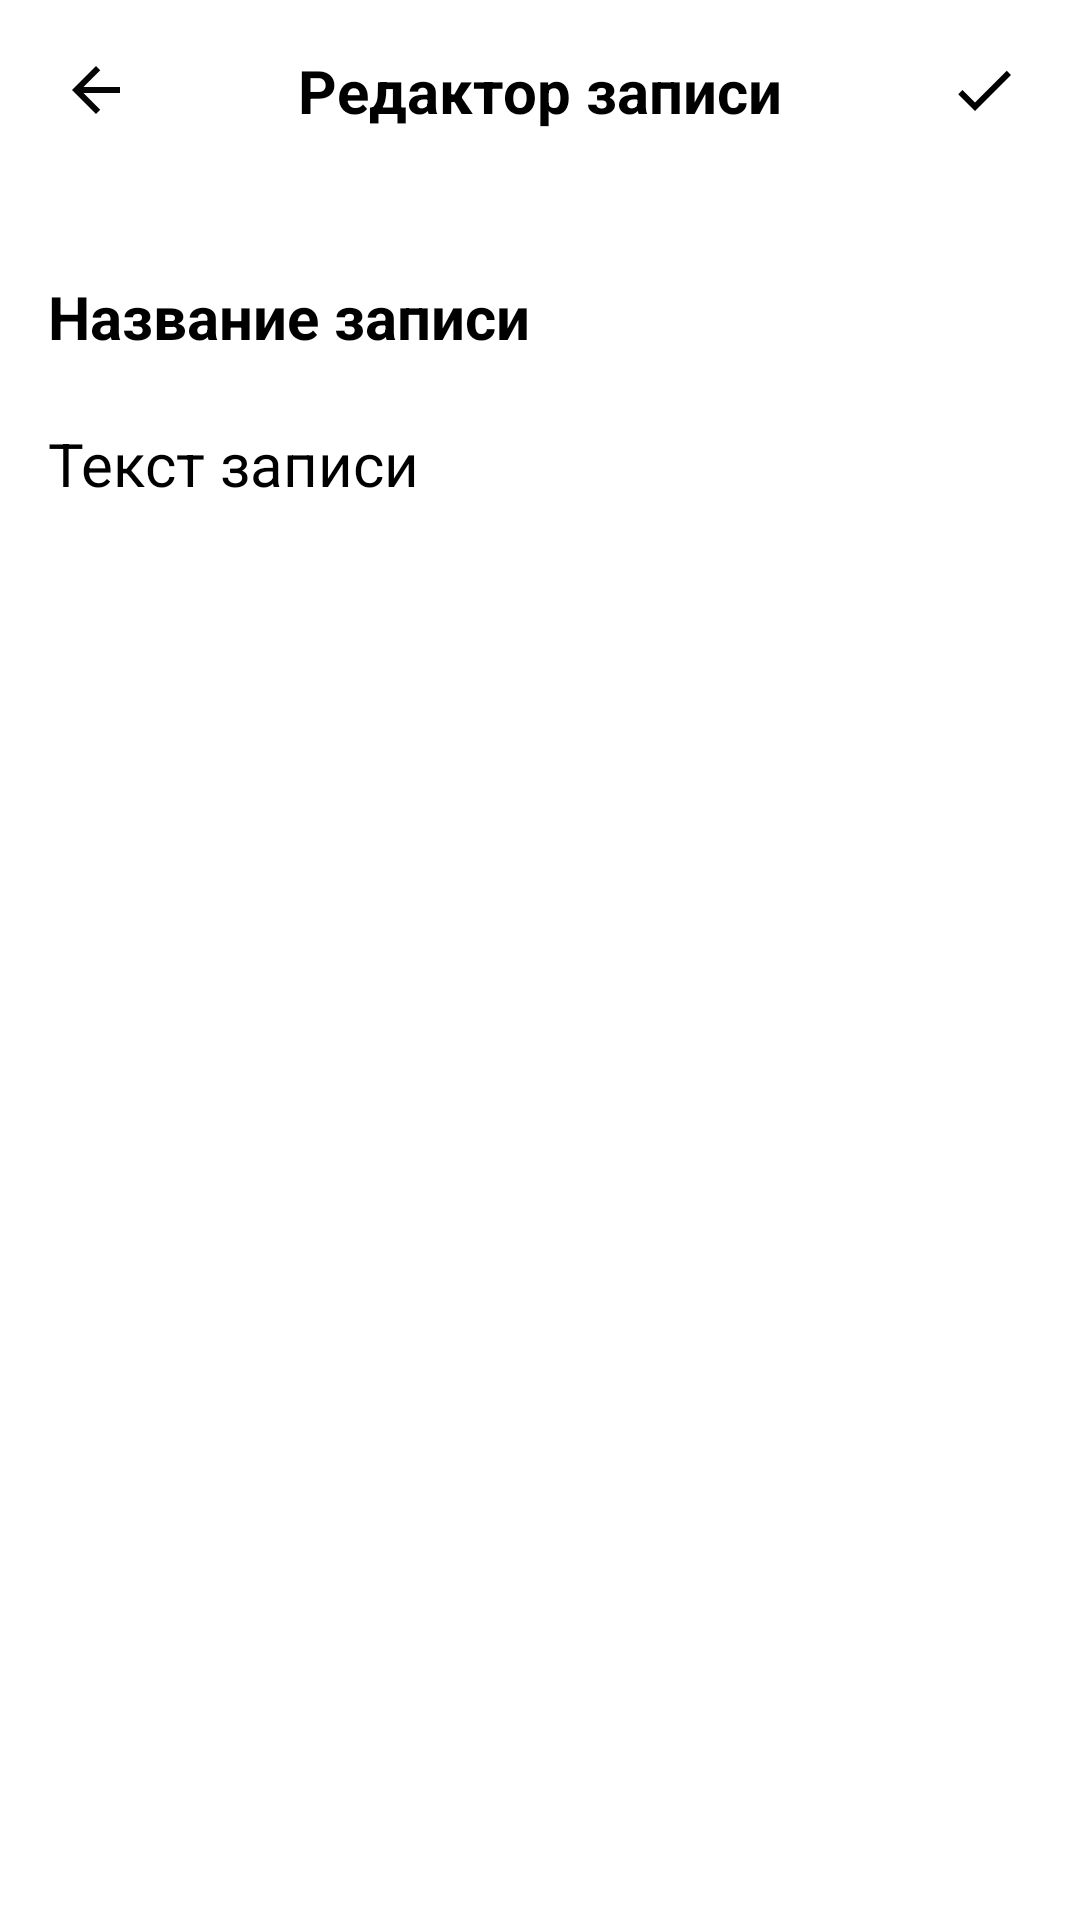

Where icons sit on this 1080*1920 app screen, as (x1, y1, x2, y2):
arrow back: (72, 66, 120, 114)
complete: (958, 71, 1011, 111)
